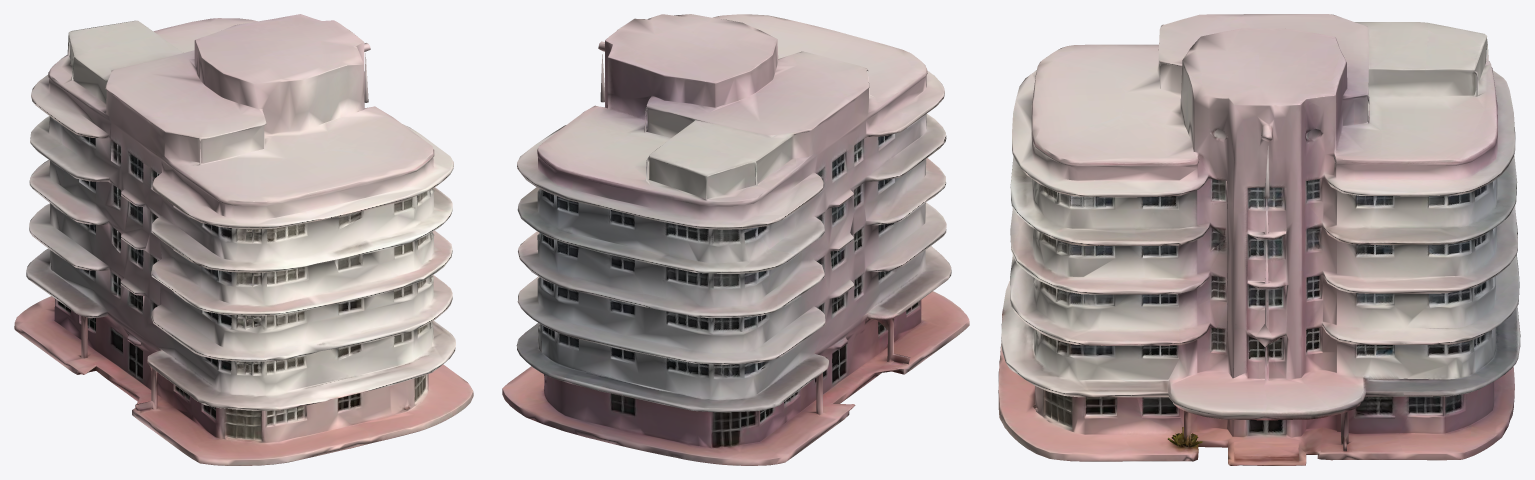
The model's file is bld_hotel_3.glb.
3 renders of one model, left to right at view 1: azimuth 30°, elevation 25°; view 2: azimuth 150°, elevation 25°; view 3: azimuth 270°, elevation 25°, orthographic. The views are drawn at different scales.
Visible parts, largest first — view 1: tripo_node_64fda320-08c4-4b98-be8d-672b1f6c6bb0; view 2: tripo_node_64fda320-08c4-4b98-be8d-672b1f6c6bb0; view 3: tripo_node_64fda320-08c4-4b98-be8d-672b1f6c6bb0.
Boxes of the visible parts, x1,y1,x2,y2 form: tripo_node_64fda320-08c4-4b98-be8d-672b1f6c6bb0: (14,14,473,465); tripo_node_64fda320-08c4-4b98-be8d-672b1f6c6bb0: (502,14,969,465); tripo_node_64fda320-08c4-4b98-be8d-672b1f6c6bb0: (998,14,1520,465).
Size of the model in its own units: 0.7575 by 0.7046 by 0.9805.
1 material, 1 textured.
